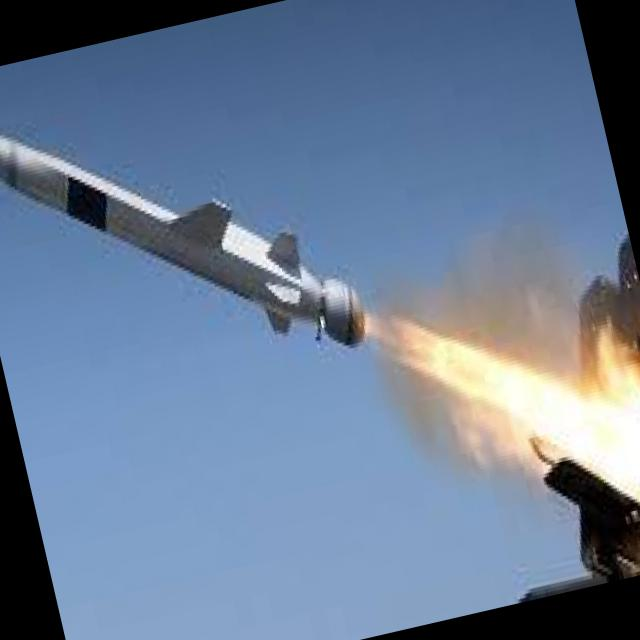rocket: (0, 25, 521, 545)
